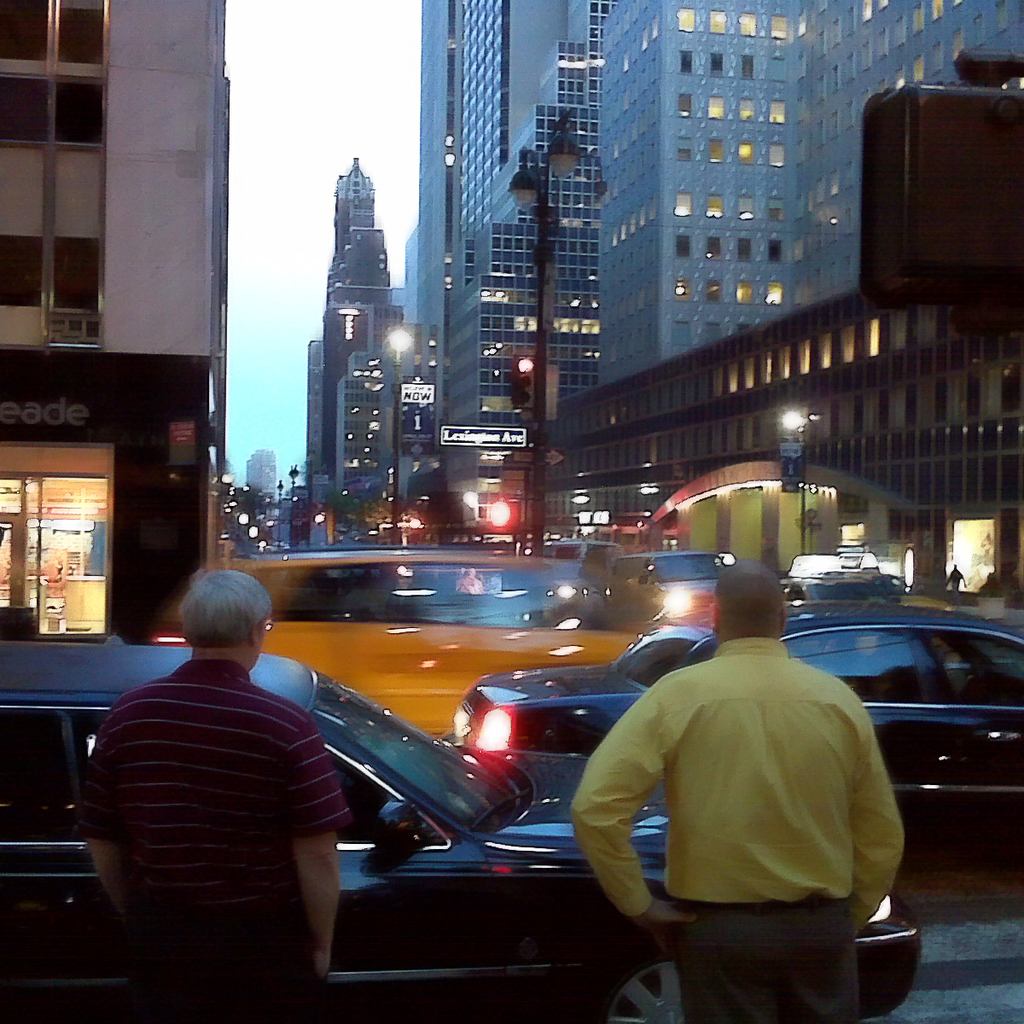cars: (0, 645, 925, 1023), (456, 610, 1023, 830), (162, 539, 638, 735), (603, 548, 726, 615)
